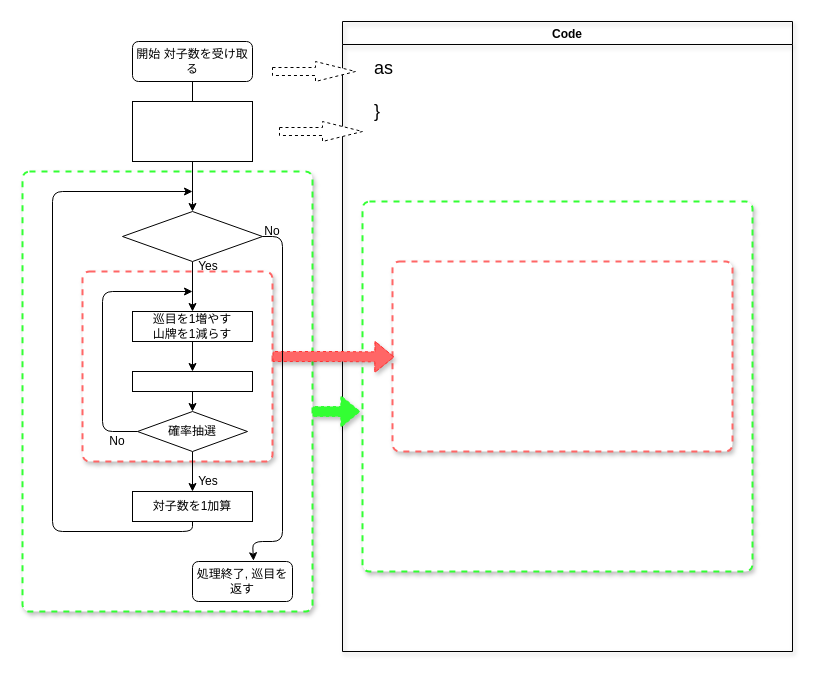
This 816x676 diagram has some shape labels left out. The centre of each missing label's shape, as x and y in pixels:
"変数の定義と初期化 巡目: -1 確率: 0 山牌: 123" goes at [192,131].
"対子数は7未満？" goes at [192,236].
"確率計算" goes at [192,381].
